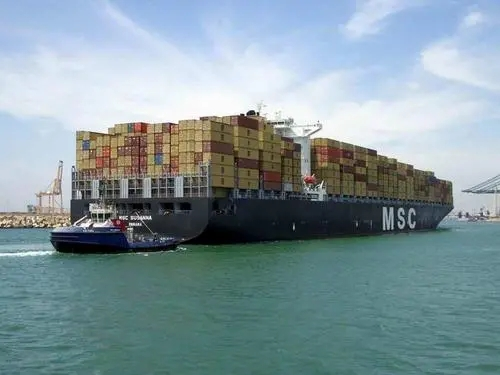Cargoship: (68, 103, 454, 234)
otherboat: (45, 199, 182, 253)
